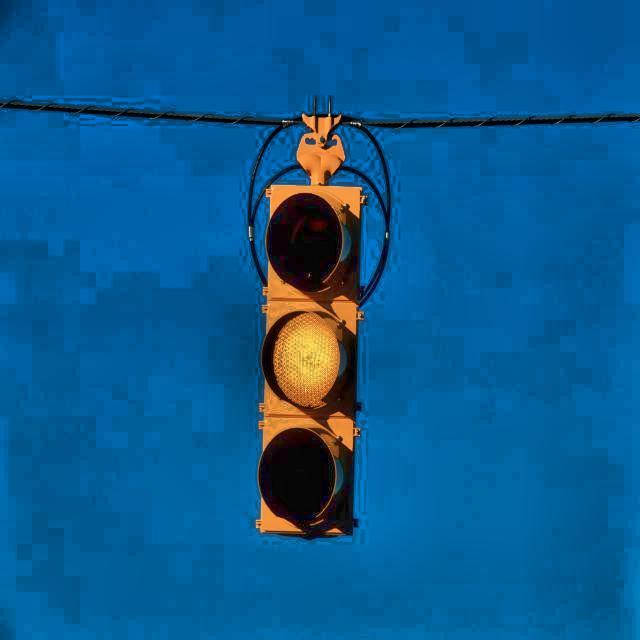yellow: (258, 179, 366, 545)
